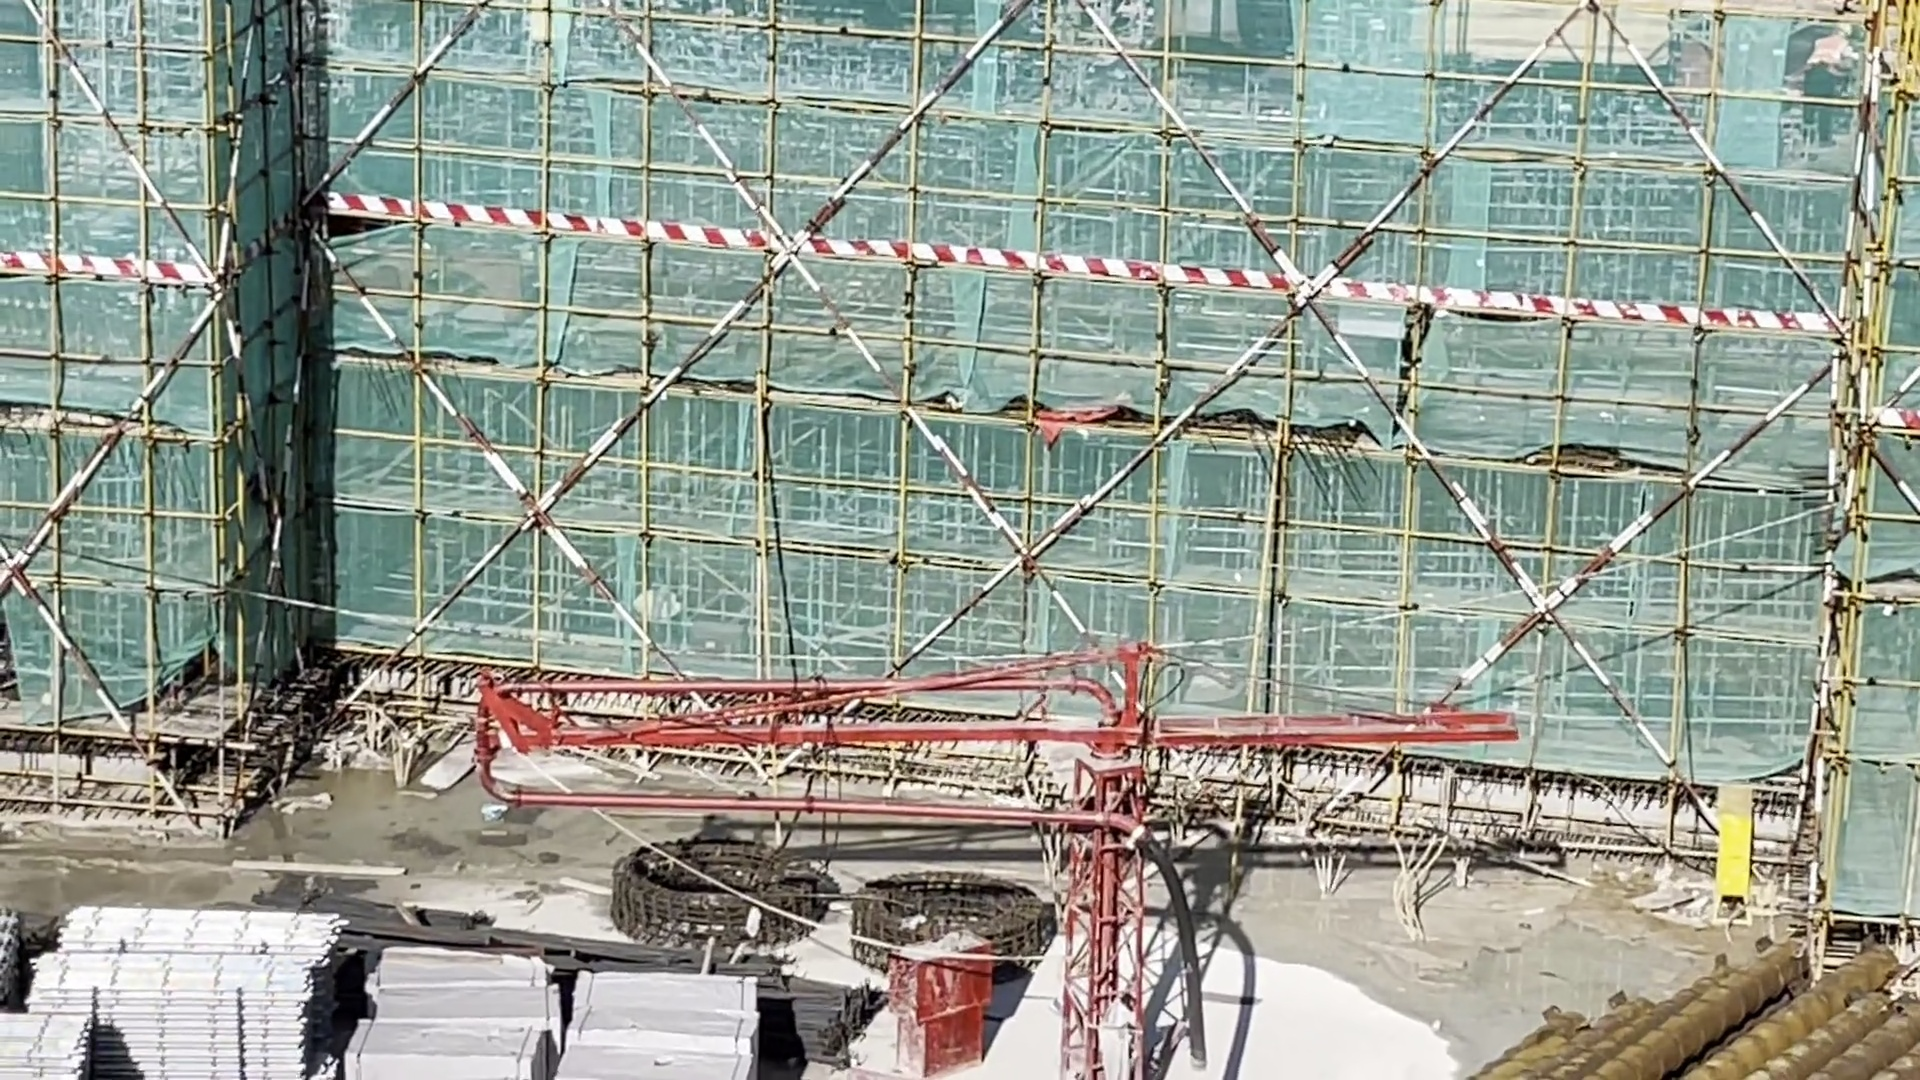ebox: (1720, 771, 1754, 882)
rebar: (1506, 915, 1920, 1075), (331, 916, 632, 951), (779, 967, 856, 1079)
scaffold: (84, 901, 344, 1072)
